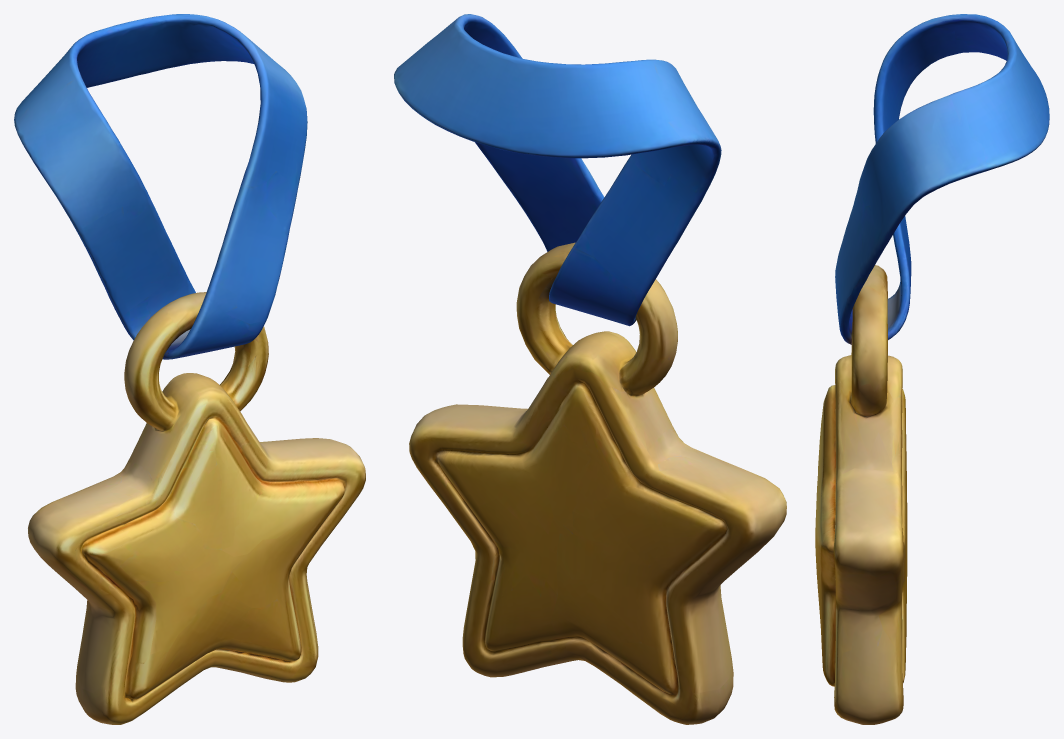
The model's file is cs-medal.glb.
3 renders of one model, left to right at view 1: azimuth 30°, elevation 25°; view 2: azimuth 150°, elevation 25°; view 3: azimuth 270°, elevation 25°, orthographic. The views are drawn at different scales.
Visible parts, largest first — view 1: tripo_node_ad6d409f-854e-4a8e-8151-6b66fc84f5c6; view 2: tripo_node_ad6d409f-854e-4a8e-8151-6b66fc84f5c6; view 3: tripo_node_ad6d409f-854e-4a8e-8151-6b66fc84f5c6.
Boxes of the visible parts, x1,y1,x2,y2 form: tripo_node_ad6d409f-854e-4a8e-8151-6b66fc84f5c6: [14, 14, 365, 724]; tripo_node_ad6d409f-854e-4a8e-8151-6b66fc84f5c6: [394, 14, 786, 724]; tripo_node_ad6d409f-854e-4a8e-8151-6b66fc84f5c6: [815, 14, 1049, 724].
Bounding box in the file's own units: 0.5402 × 1 × 0.3371.
Materials: 1 (1 with a texture image).
